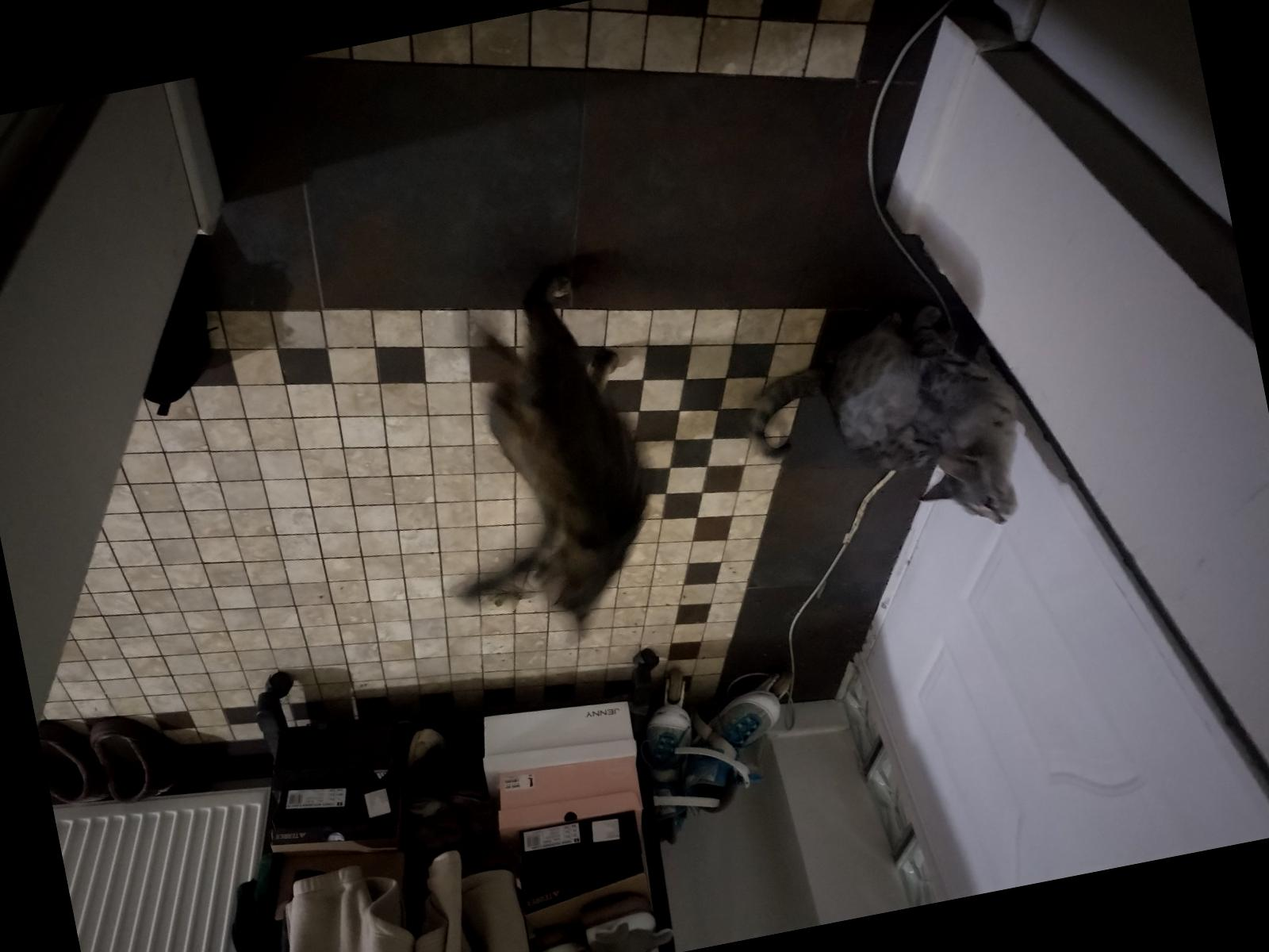macka: (394, 258, 679, 665), (721, 282, 1054, 573)
